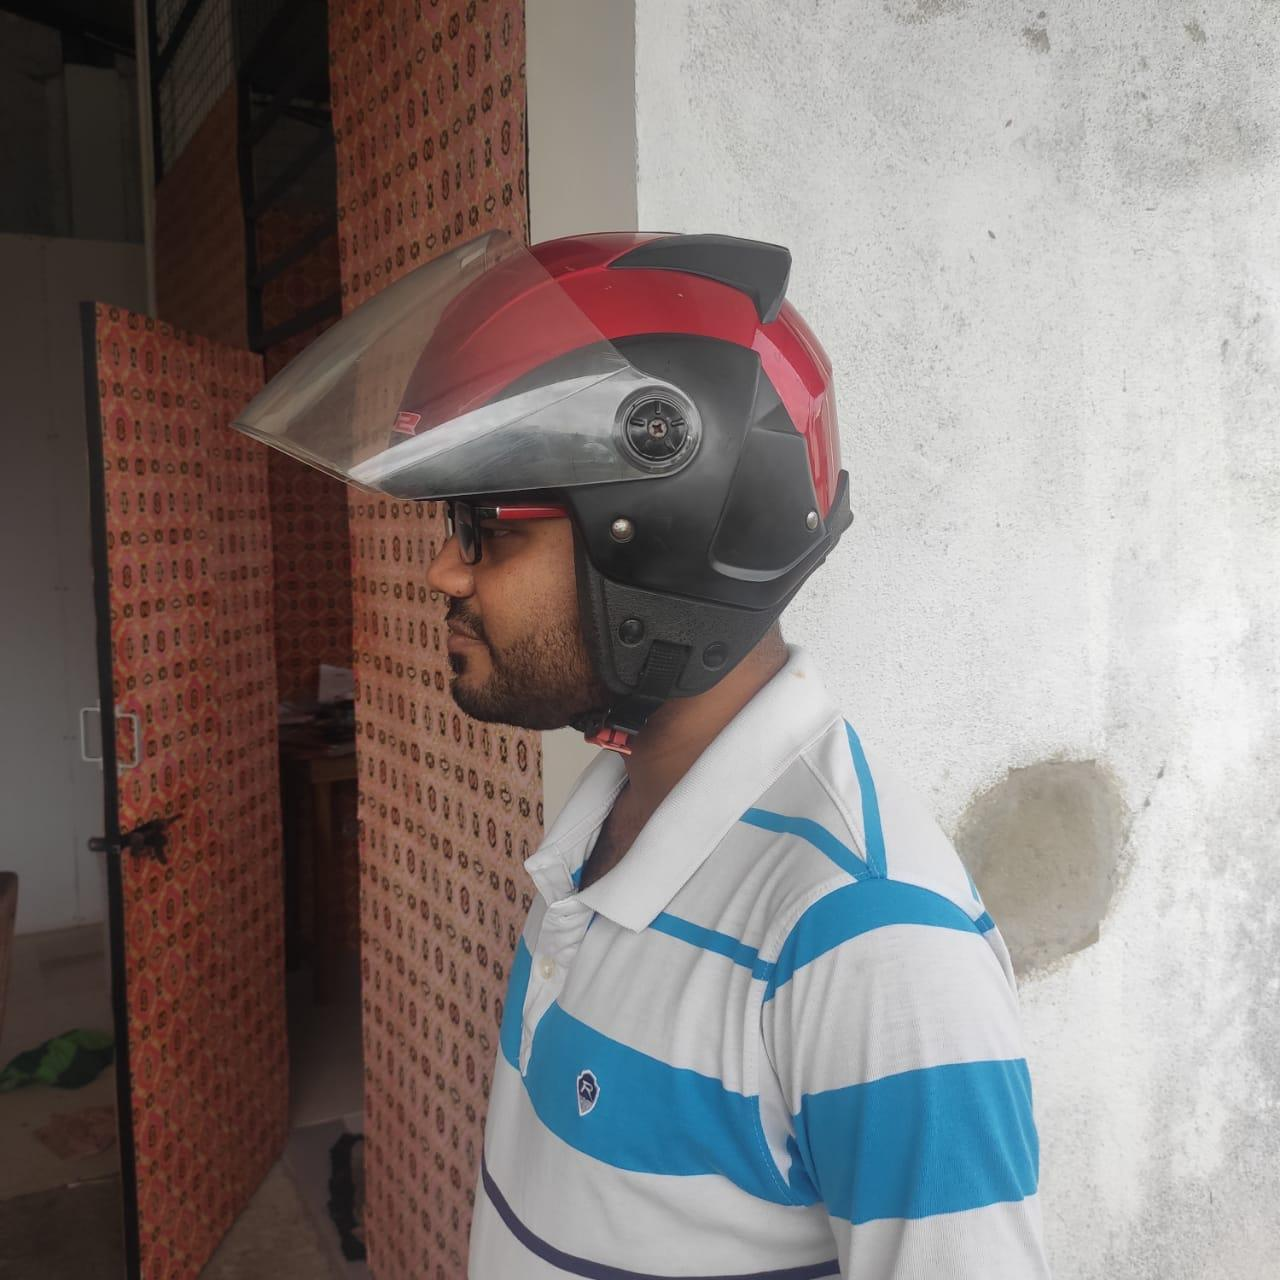helmet: (232, 227, 855, 723)
